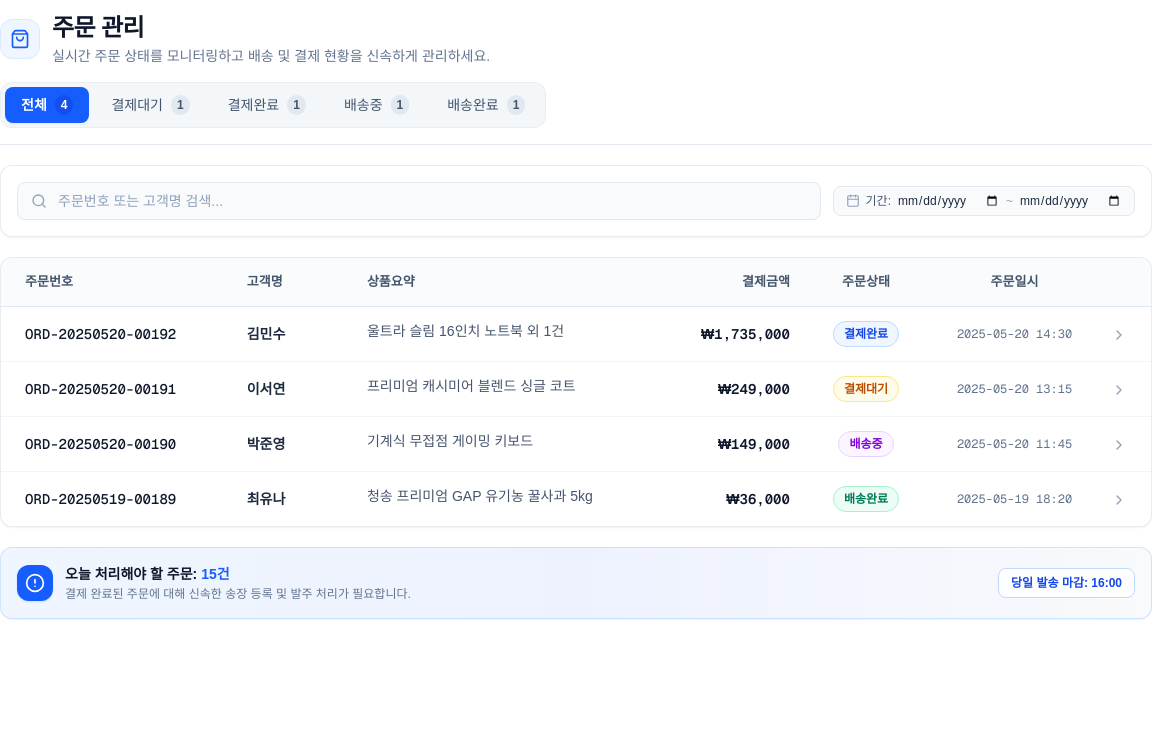
Test: OrderView Component (Integration Test) › 검색창에 고객명 또는 주문번호 입력 시 실시간 필터링된다
Type "최유나" into the field with placeholder "주문번호 또는 고객명 검색...". click: [419, 201]
box: [17,182,821,220]
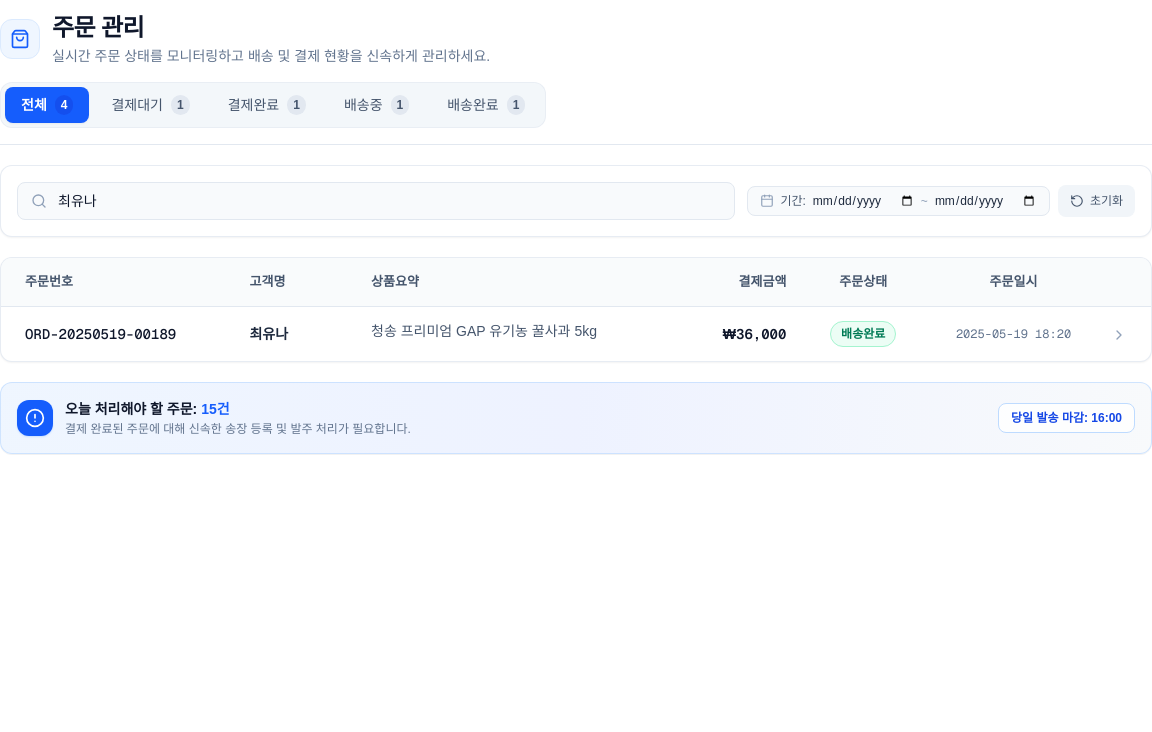
Expected: the text "최유나" is shown, [234,306,355,360]
Now the text "김민수" is gone
